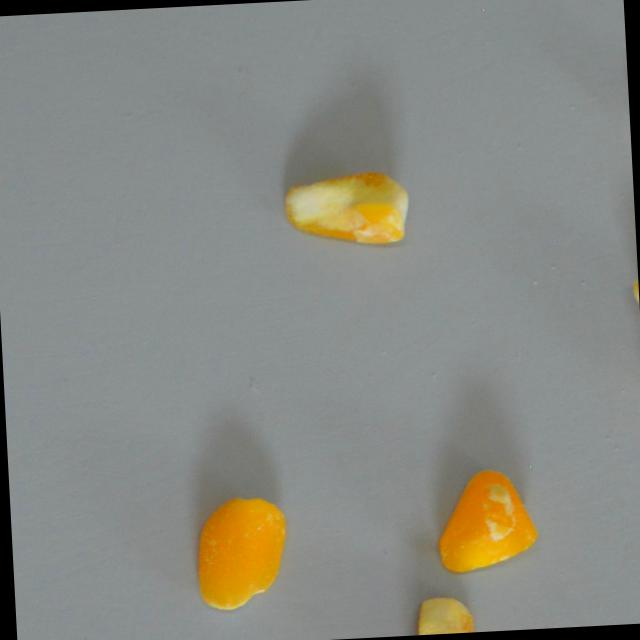dañado: (187, 491, 298, 615), (428, 461, 542, 579), (274, 165, 416, 253), (411, 590, 481, 636)
